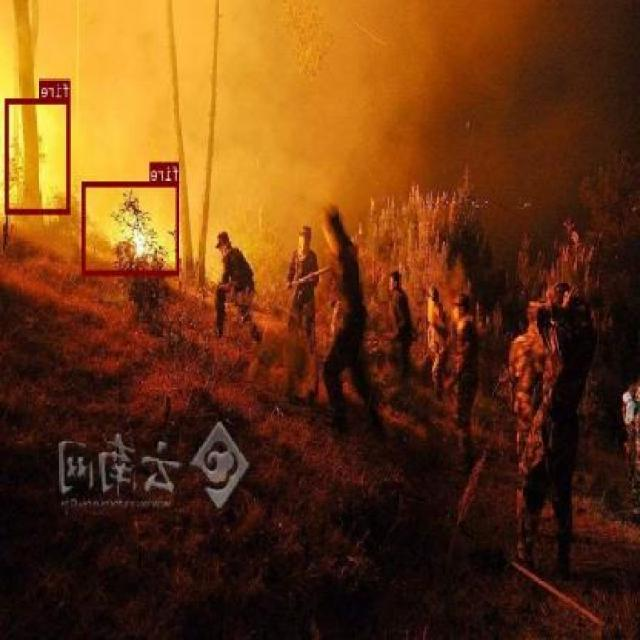Fire: (82, 180, 180, 274), (6, 98, 71, 214)
